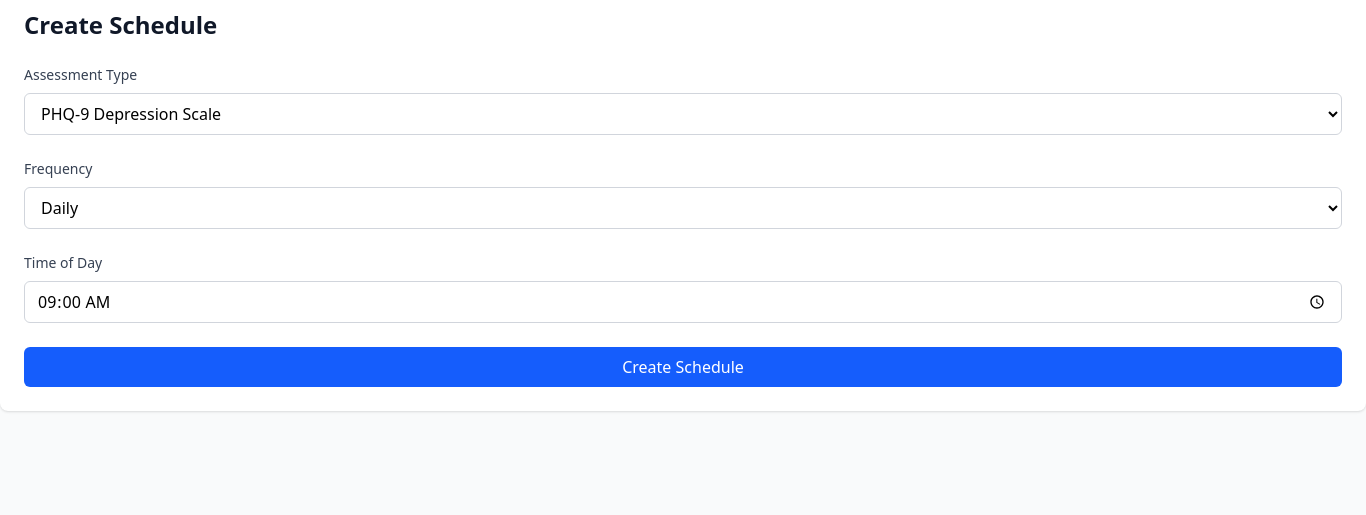
Test: ScheduleForm › should display error on failed submission
Check: the time field labelled "Time of Day" is shown, box [24, 281, 1342, 323]
Click the button "Create Schedule". click: coordinates (683, 367)
box: [24, 347, 1342, 387]
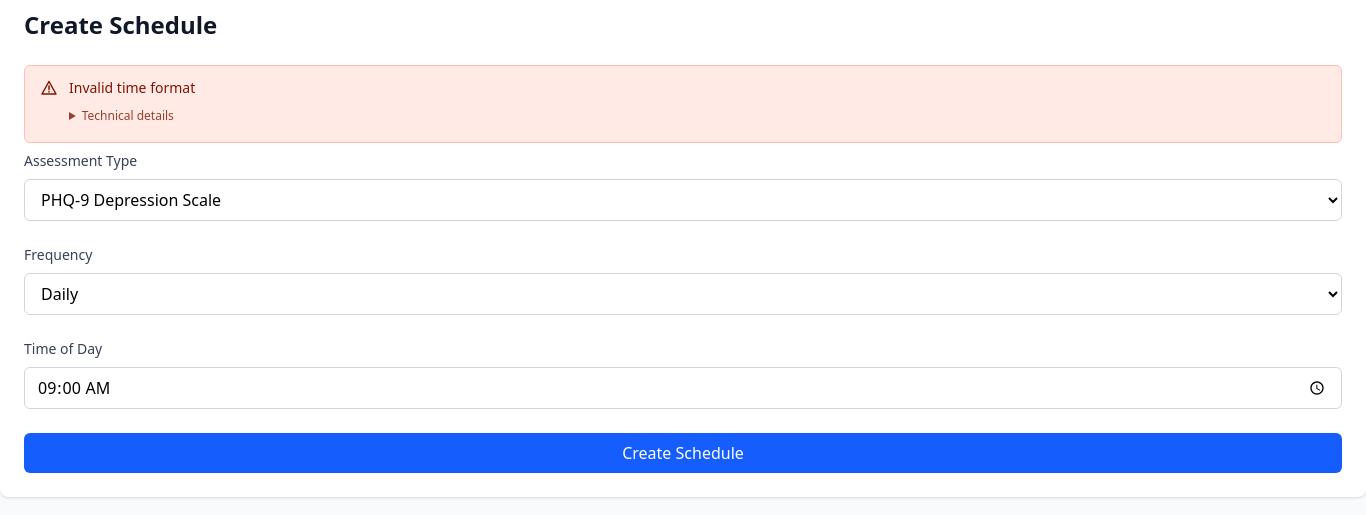
Check: the text "Invalid time format" is shown, box [69, 78, 195, 97]
